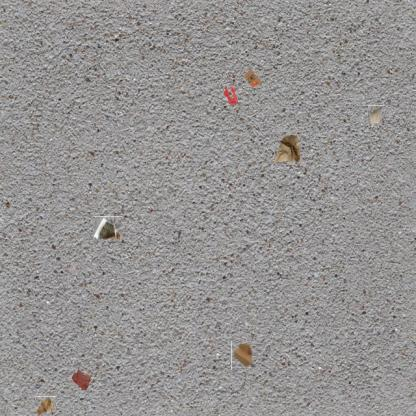dirty: (92, 216, 122, 241), (231, 340, 256, 370), (274, 134, 300, 162), (34, 396, 56, 415), (243, 68, 263, 88), (367, 107, 384, 125)
liquid: (70, 368, 92, 392), (222, 82, 238, 106)
